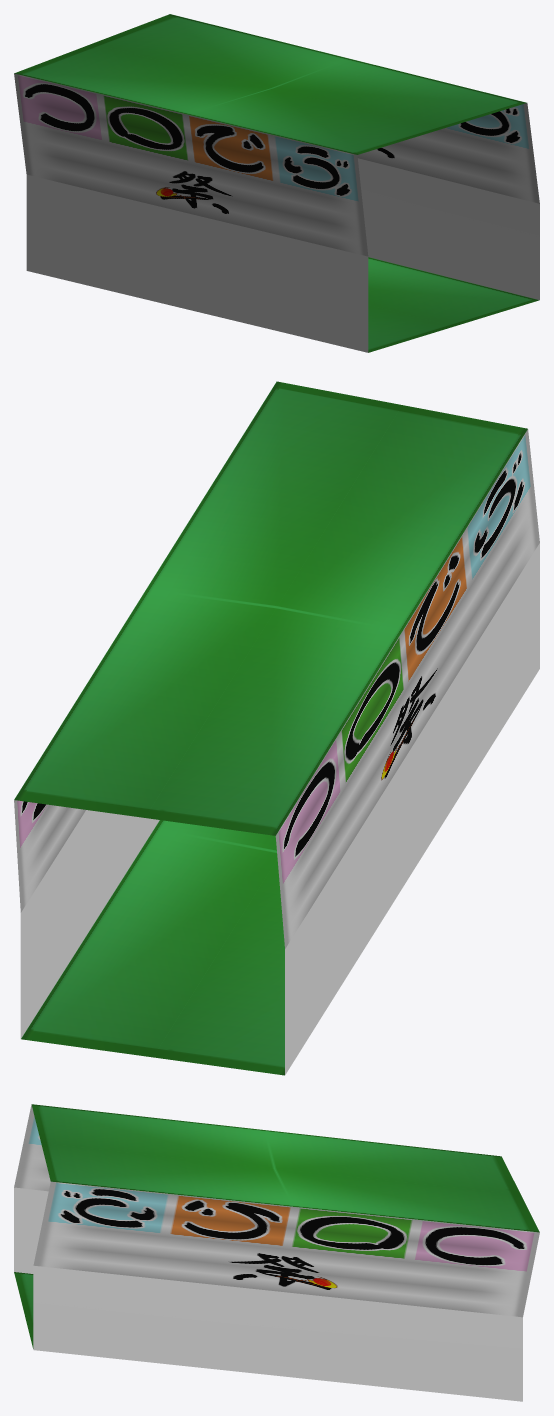
3 views of the same model, one above another, from view 1: azimuth 30°, elevation 25°; view 2: azimuth 150°, elevation 25°; view 3: azimuth 270°, elevation 25° (orthographic). The views are drawn at different scales.
Parts seen in each view (by area): view 1: polySurface97; view 2: polySurface97; view 3: polySurface97.
Boxes of the visible parts, x1,y1,x2,y2 form: polySurface97: (14,14,539,352); polySurface97: (14,381,539,1075); polySurface97: (14,1104,539,1401).
Size of the model in its own units: 2.82 by 2.98 by 5.65.
Materials: 1 (1 with a texture image).
